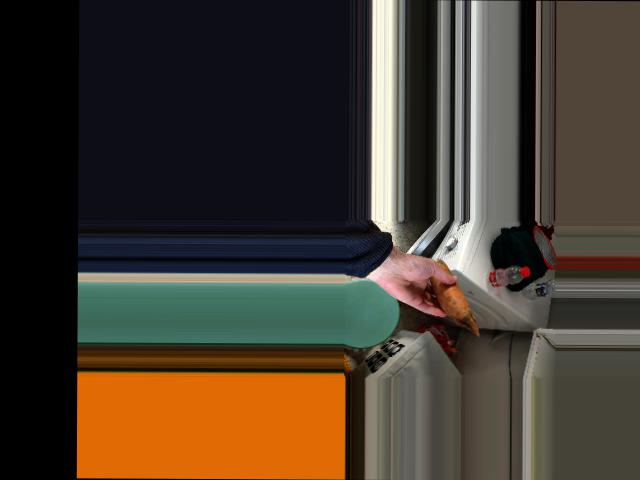sweet_potato: (426, 267, 467, 314)
